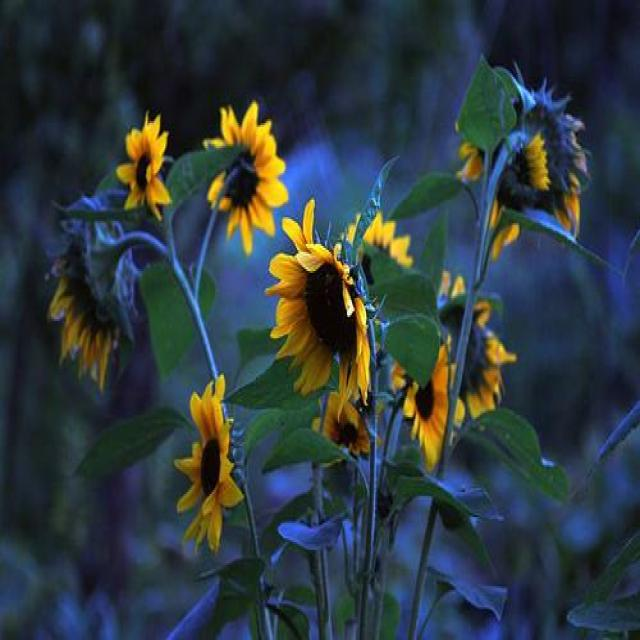sunflower: (267, 194, 379, 417), (42, 202, 140, 399), (202, 101, 288, 243), (381, 301, 452, 468), (177, 372, 244, 547), (120, 112, 172, 214)
